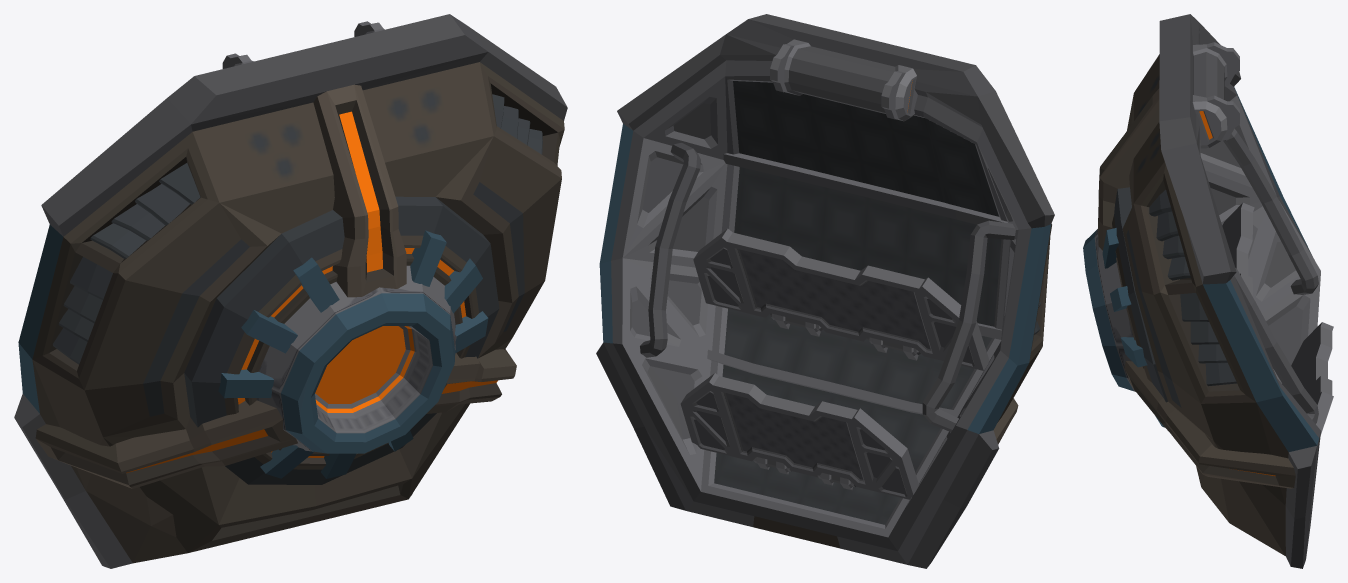
File: SM_Mech_Cockpit_01_Armor_Door_02.fbx
3 views of the same model, side by side, from view 1: azimuth 30°, elevation 25°; view 2: azimuth 150°, elevation 25°; view 3: azimuth 270°, elevation 25° (orthographic). The views are drawn at different scales.
Parts seen in each view (by area): view 1: SM_Mech_Cockpit_01_Armor_Door_02; view 2: SM_Mech_Cockpit_01_Armor_Door_02; view 3: SM_Mech_Cockpit_01_Armor_Door_02.
Part boxes in pixels (<box>): SM_Mech_Cockpit_01_Armor_Door_02: <box>14,14,567,568</box>; SM_Mech_Cockpit_01_Armor_Door_02: <box>596,14,1054,568</box>; SM_Mech_Cockpit_01_Armor_Door_02: <box>1083,14,1333,568</box>.
Bounding box in the file's own units: 111 × 111 × 57.19.
